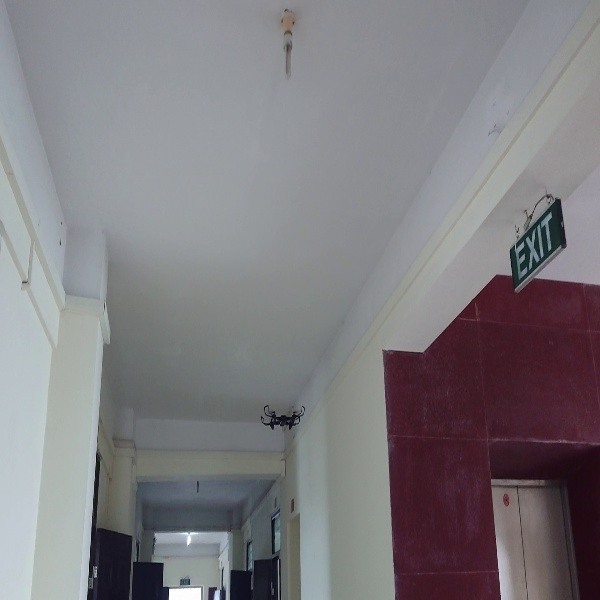drone: (256, 404, 308, 435)
